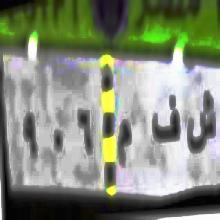0: (50, 116, 66, 170)
6: (74, 104, 99, 154)
9: (18, 112, 44, 161)
faa: (152, 90, 182, 150)
meem: (113, 114, 138, 173)
sheen: (185, 89, 217, 157)
